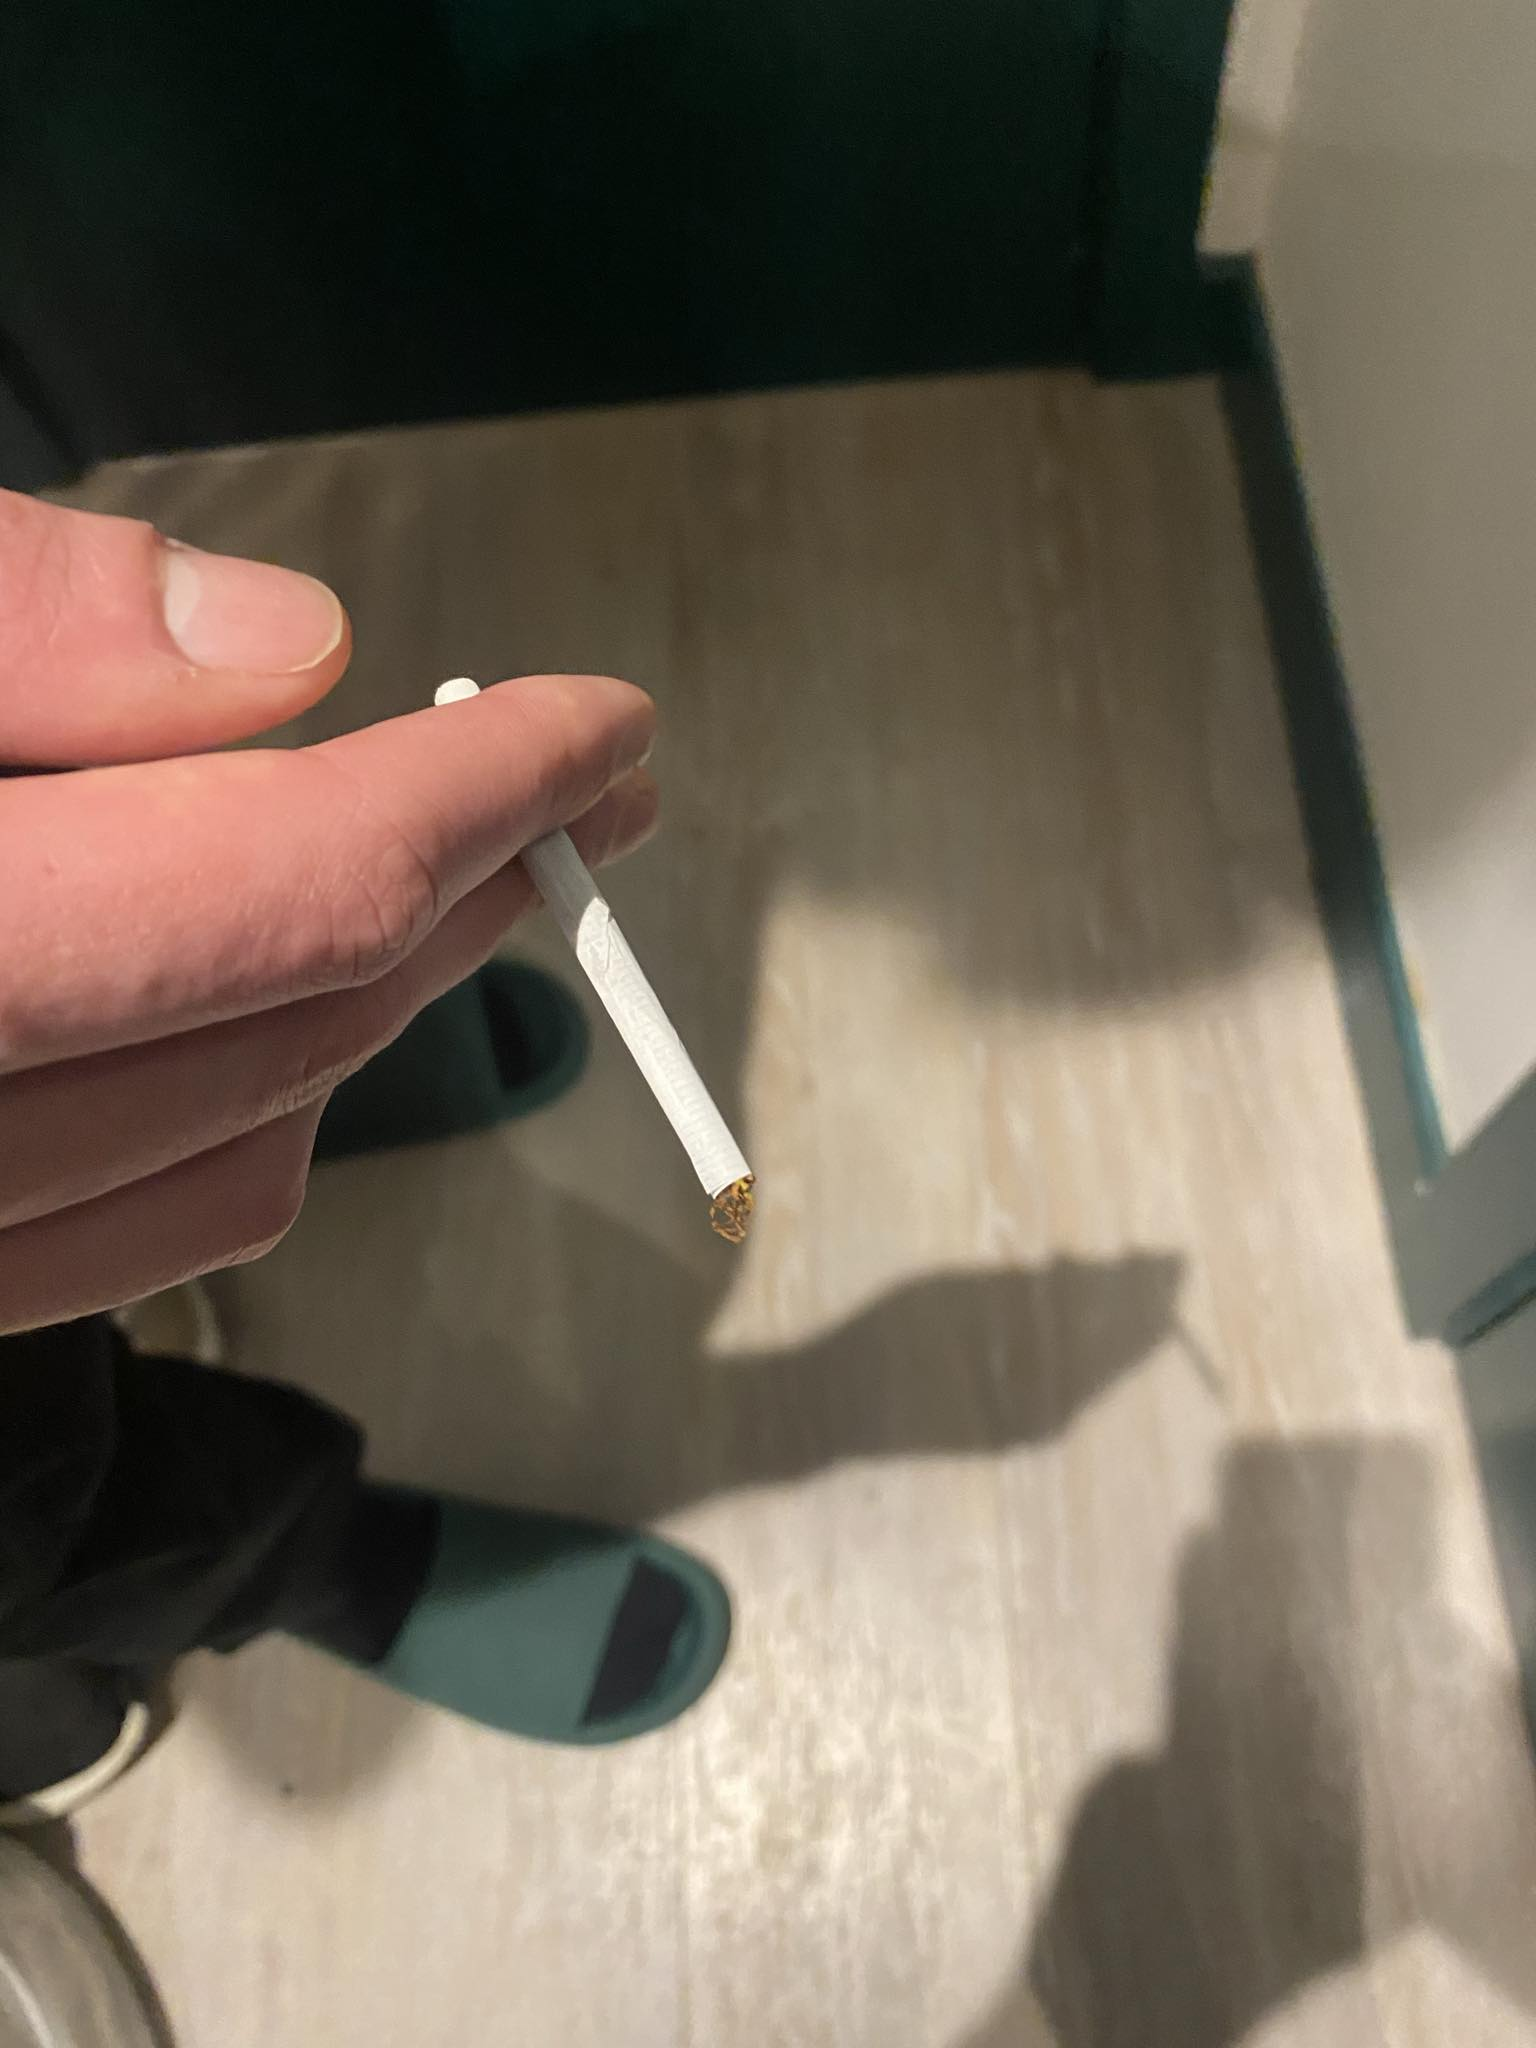Cigarette: (432, 676, 757, 1243)
